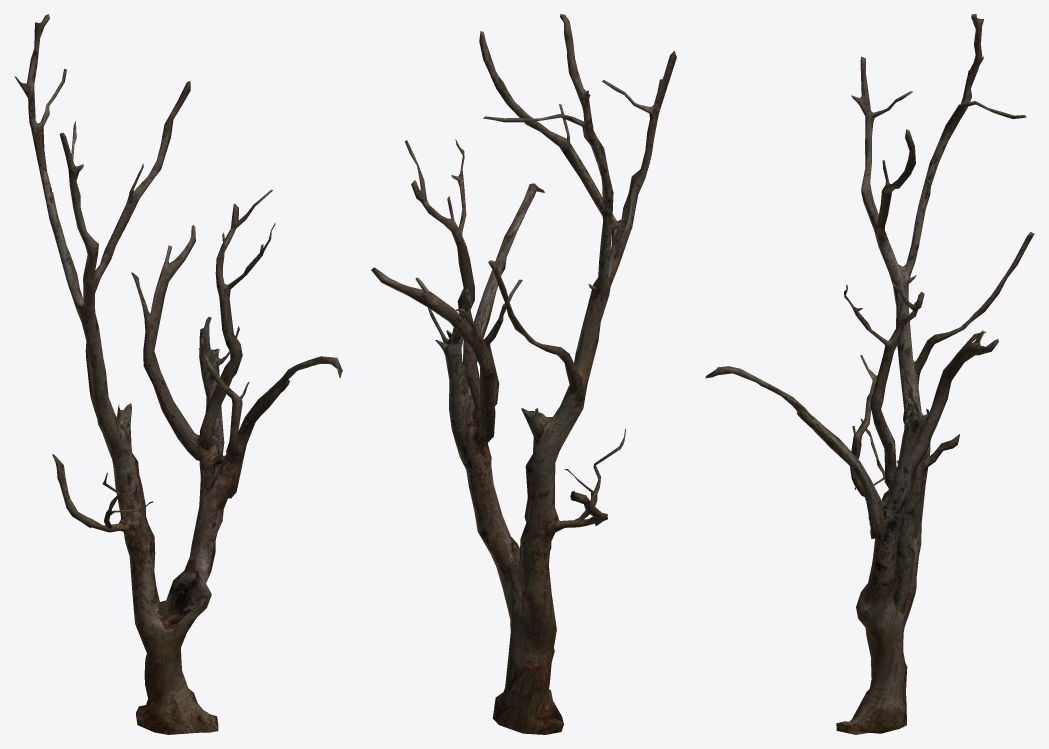
File: SM_DeadTree_01.fbx
The picture shows the model from 3 angles, left to right: view 1: azimuth 30°, elevation 25°; view 2: azimuth 150°, elevation 25°; view 3: azimuth 270°, elevation 25°; orthographic projection. The views are drawn at different scales.
Parts seen in each view (by area): view 1: P_DeadTree01; view 2: P_DeadTree01; view 3: P_DeadTree01.
Boxes of the visible parts, x1,y1,x2,y2 form: P_DeadTree01: (14,14,342,734); P_DeadTree01: (371,14,676,734); P_DeadTree01: (705,14,1034,734).
Size of the model in its own units: 346 by 1000 by 444.
